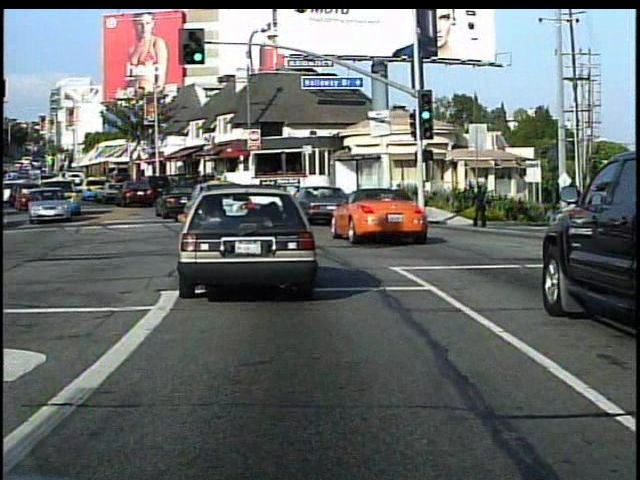person: (558, 184, 582, 245), (467, 182, 489, 229)
